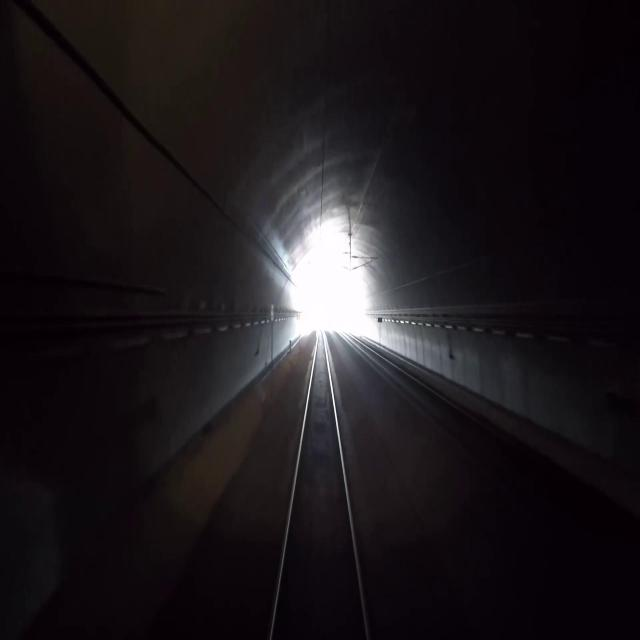rail-track: (363, 347, 640, 567), (273, 329, 365, 639)
